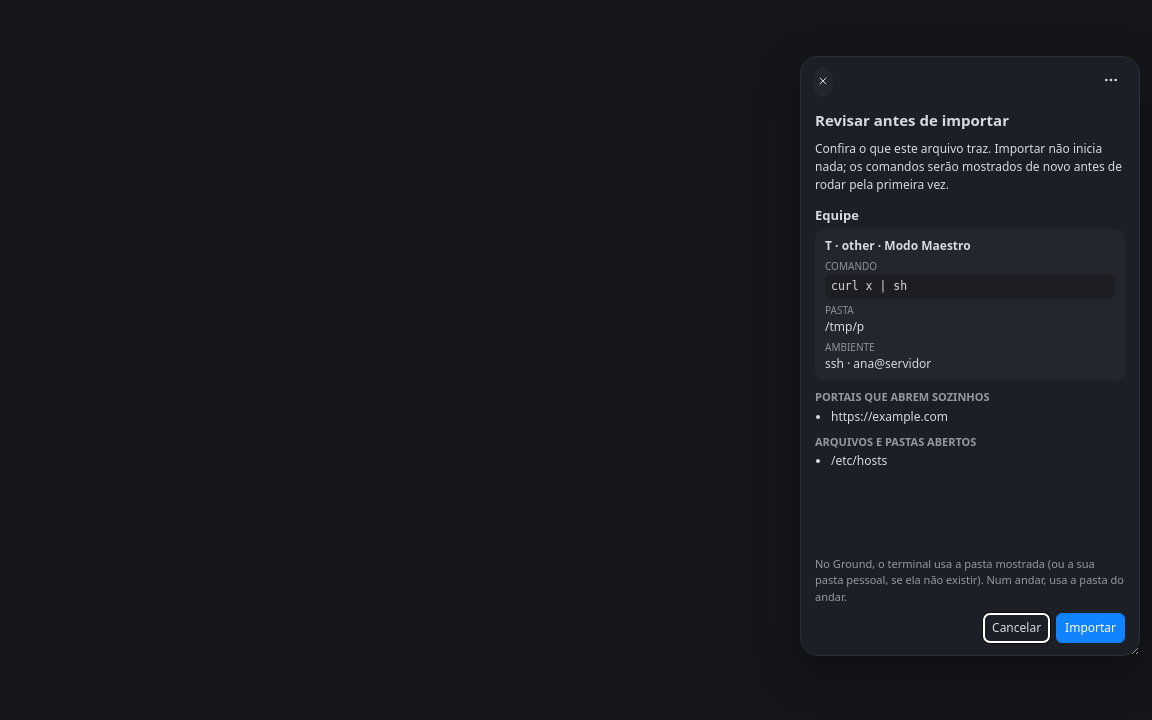
Scenario: escolher um arquivo abre a revisão com comando, pasta e ambiente; só grava ao aceitar
The image size is (1152, 720).
Earlier steps of the test are not shown.
Later steps or results of the test are not shown.
expect the dialog shows "curl x | sh": met, box [831,279,907,293]
expect the dialog shows "/tmp/p": met, box [825,318,864,335]
Click the button "Cancelar".
click(1016, 628)  # box [983,613,1050,643]
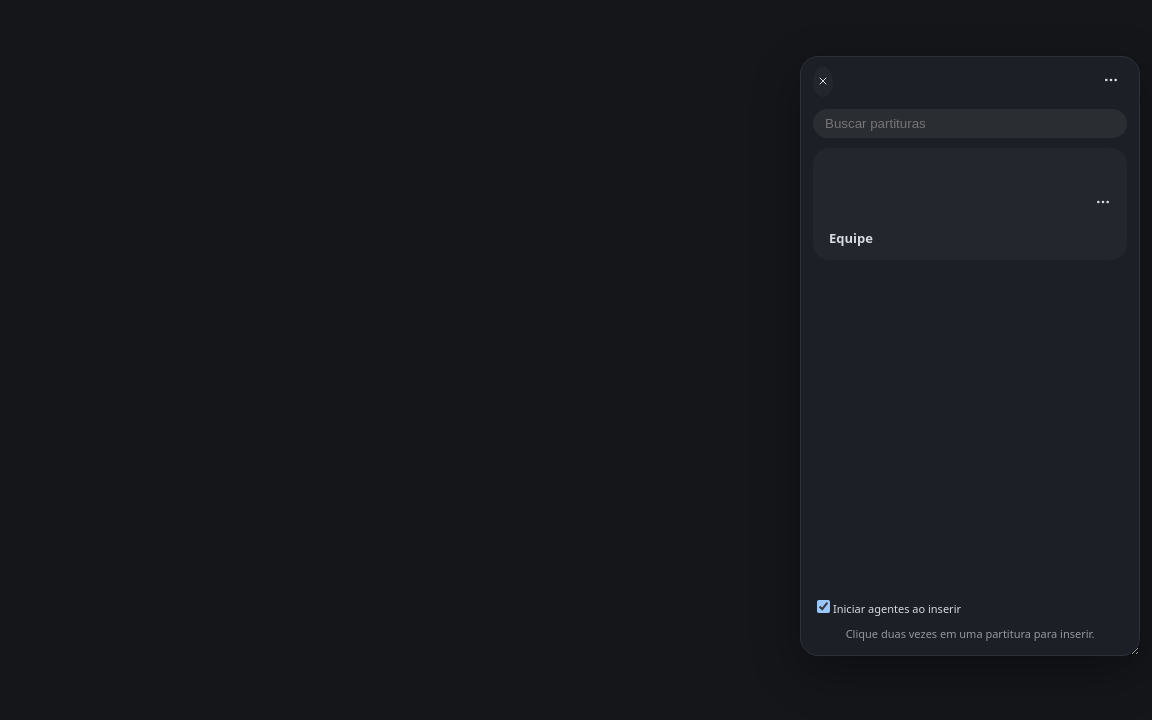
expect the dialog is gone: met
